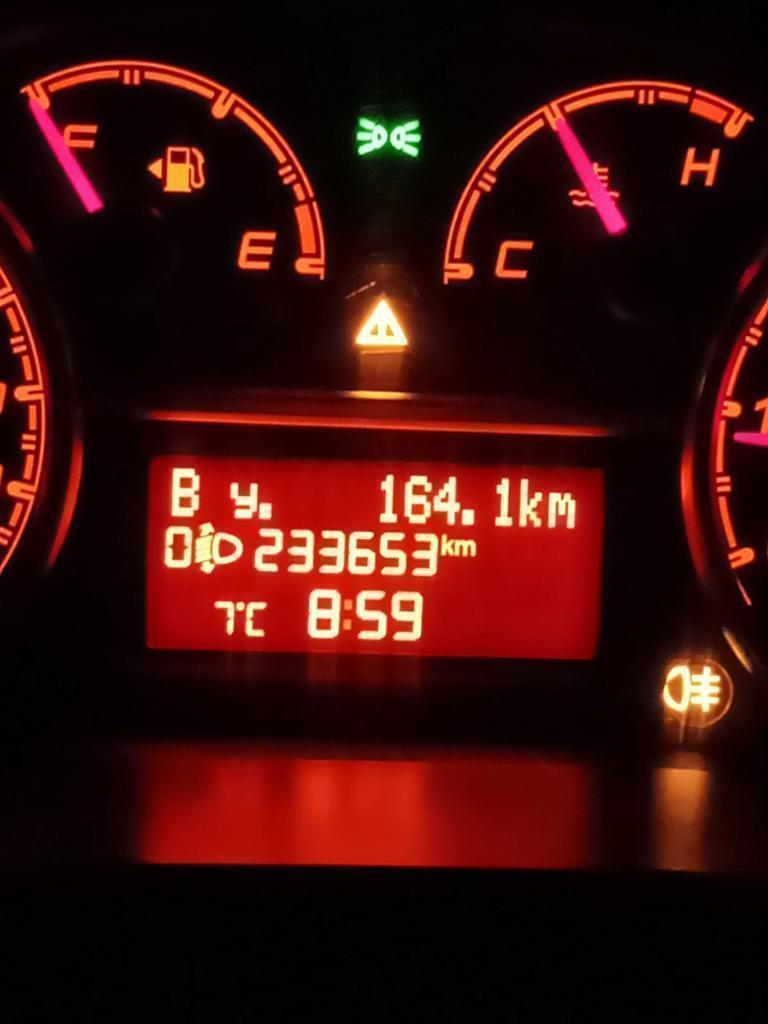,: (460, 506, 476, 528), (257, 500, 273, 521)
0: (162, 523, 193, 570)
1: (376, 470, 400, 525), (492, 474, 515, 529)
2: (252, 526, 282, 575)
3: (410, 530, 439, 579), (317, 528, 346, 576), (286, 526, 314, 575)
4: (432, 473, 459, 527)
5: (355, 586, 388, 642), (378, 529, 407, 578)
6: (402, 472, 432, 526), (347, 528, 376, 576)
7: (211, 598, 236, 638)
8: (305, 587, 341, 640)
9: (390, 589, 425, 642)
X: (168, 464, 202, 519), (518, 474, 544, 530), (546, 488, 577, 531), (227, 479, 258, 521), (246, 598, 267, 639), (342, 595, 354, 632), (439, 530, 455, 557), (455, 538, 477, 557)
odometer: (133, 447, 612, 673)
